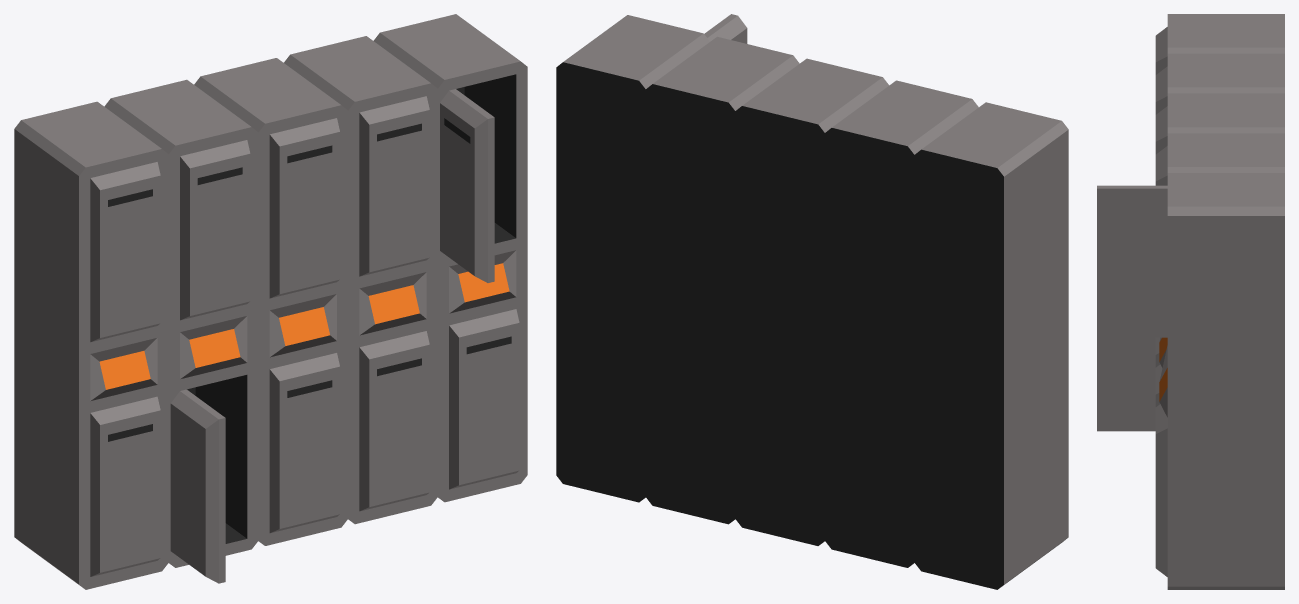
The model's file is scifi-lockers.glb.
3 views of the same model, side by side, from view 1: azimuth 30°, elevation 25°; view 2: azimuth 150°, elevation 25°; view 3: azimuth 270°, elevation 25° (orthographic). The views are drawn at different scales.
Parts seen in each view (by area): view 1: scifi-lockers; view 2: scifi-lockers; view 3: scifi-lockers.
Part boxes in pixels (x1,y1,x2,y2): scifi-lockers: [14, 14, 527, 589]; scifi-lockers: [556, 14, 1068, 589]; scifi-lockers: [1097, 14, 1284, 589].
Size of the model in its own units: 2 by 1.8 by 0.8.
Materials: 1 (1 with a texture image).
